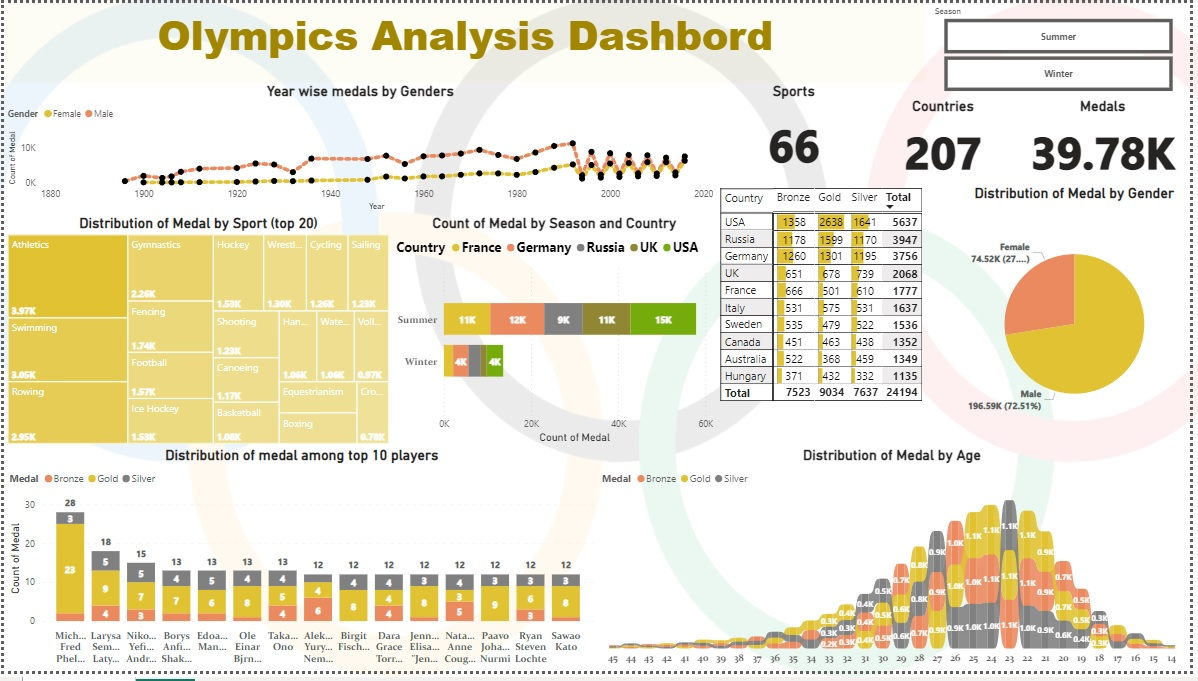

The dashboard page shown, as its layout file describes it:
{"tool":"powerbi","page":{"name":"Page 1","canvas":[1600,900],"ordinal":0},"visuals":[{"type":"pieChart","title":"Distribution  of Medal by Gender","fields":{"Category":["Olympics.Gender"],"Y":["Olympics.Medal"]},"box":[1286.3,244.7,313.5,353.9],"z":0},{"type":"pivotTable","title":"Country wise distribution of medal (top 10)","fields":{"Columns":["Olympics.Medal"],"Rows":["Olympics.Country"],"Values":["Olympics.Medal"]},"box":[960.7,244.7,325.6,353.9],"z":1000},{"type":"columnChart","title":"Distribution of medal among top 10 players","fields":{"Y":["Olympics.Medal"],"Category":["Olympics.Name"],"Series":["Olympics.Medal"]},"box":[2,598.7,798.9,301.3],"z":2000},{"type":"treemap","title":"Distribution of Medal by Sport (top 20)","fields":{"Group":["Olympics.Sport"],"Values":["Olympics.Medal"]},"box":[0,285.2,523.8,313.5],"z":3000},{"type":"barChart","fields":{"Category":["Olympics.Season"],"Y":["Olympics.Medal"],"Series":["Olympics.Country"]},"box":[523.8,285.2,436.9,313.5],"z":4000},{"type":"ribbonChart","title":"Distribution  of Medal by Age","fields":{"Category":["Olympics.Age"],"Y":["Olympics.Medal"],"Series":["Olympics.Medal"]},"box":[800.9,598.7,792.8,301.3],"z":5000},{"type":"lineChart","title":"Year wise medals by Genders","fields":{"Category":["Olympics.Year"],"Y":["Olympics.Medal"],"Series":["Olympics.Gender"]},"box":[0,107.2,960.7,178],"z":6000},{"type":"card","title":"Sports","fields":{"Values":["Olympics.Sport"]},"box":[960.7,107.2,208.3,139.6],"z":7000},{"type":"card","title":"Countries","fields":{"Values":["Olympics.Country"]},"box":[1169,127.4,194.2,119.3],"z":8000},{"type":"slicer","title":"Seasons","fields":{"Values":["Olympics.Season"]},"box":[1241.8,0,358,125.4],"z":9000},{"type":"textbox","box":[2,0,1239.8,107.2],"z":10000},{"type":"card","title":"Medals","fields":{"Values":["Olympics.Medal"]},"box":[1363.1,127.4,236.6,119.3],"z":11000}]}

Visuals, with their boxes in screenshot pixels (x1, y1, x2, y2), scaled from the page's 1600x900 canvas onto the 1198x681 screenshot:
"Distribution  of Medal by Gender" pieChart: BBox(963, 185, 1197, 453)
"Country wise distribution of medal (top 10)" pivotTable: BBox(719, 185, 963, 453)
"Distribution of medal among top 10 players" columnChart: BBox(1, 453, 600, 680)
"Distribution of Medal by Sport (top 20)" treemap: BBox(0, 216, 392, 453)
barChart - Olympics.Season x Olympics.Medal: BBox(392, 216, 719, 453)
"Distribution  of Medal by Age" ribbonChart: BBox(600, 453, 1193, 680)
"Year wise medals by Genders" lineChart: BBox(0, 81, 719, 216)
"Sports" card: BBox(719, 81, 875, 187)
"Countries" card: BBox(875, 96, 1021, 187)
"Seasons" slicer: BBox(930, 0, 1197, 95)
textbox: BBox(1, 0, 930, 81)
"Medals" card: BBox(1021, 96, 1197, 187)
